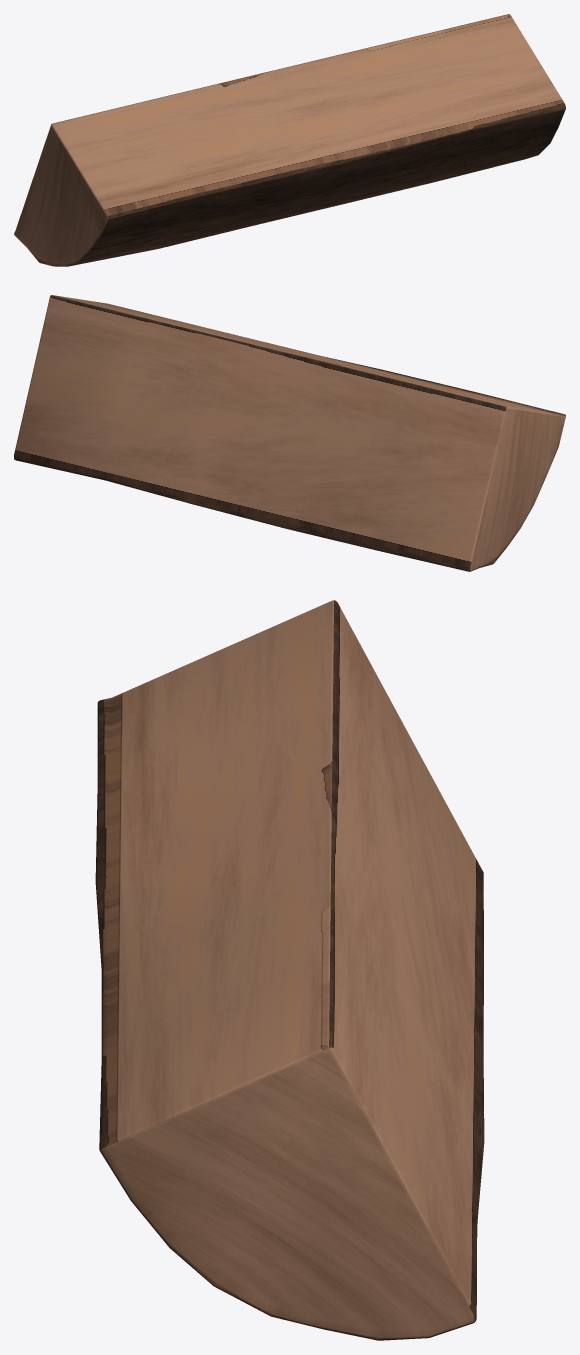
File: maki_single.obj
3 views of the same model, one above another, from view 1: azimuth 30°, elevation 25°; view 2: azimuth 150°, elevation 25°; view 3: azimuth 270°, elevation 25° (orthographic). The views are drawn at different scales.
Parts seen in each view (by area): view 1: maki.008_Material.003; view 2: maki.008_Material.003; view 3: maki.008_Material.003.
Boxes of the visible parts, x1,y1,x2,y2 form: maki.008_Material.003: [14, 14, 565, 266]; maki.008_Material.003: [14, 295, 565, 571]; maki.008_Material.003: [95, 600, 484, 1340].
Size of the model in its own units: 14.32 by 4.42 by 5.23.
